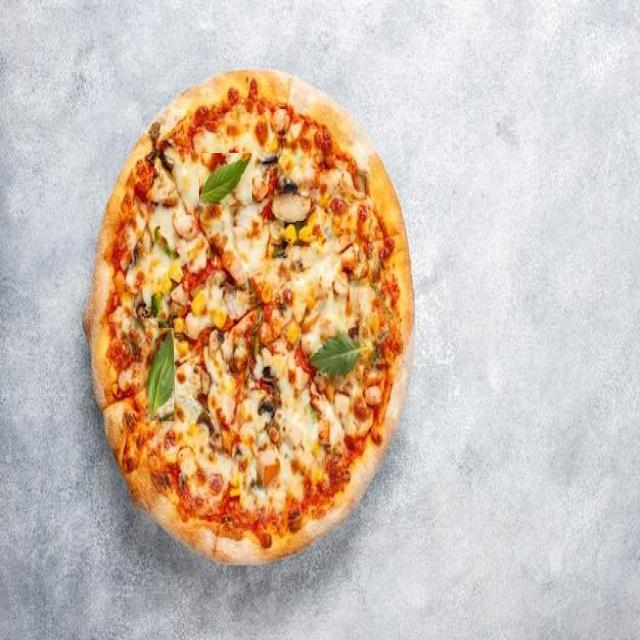basil: (308, 330, 368, 376), (199, 154, 252, 206), (146, 328, 174, 421)
pizza: (85, 65, 412, 565)
